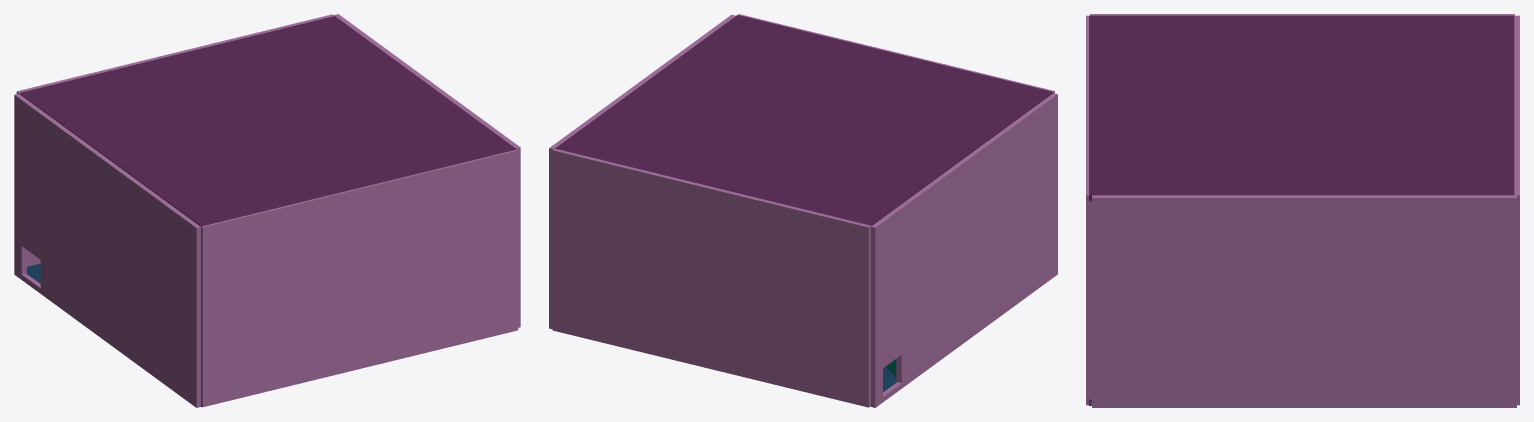
The model's file is Blockout-color.fbx.
The picture shows the model from 3 angles, left to right: view 1: azimuth 30°, elevation 25°; view 2: azimuth 150°, elevation 25°; view 3: azimuth 270°, elevation 25°; orthographic projection. The views are drawn at different scales.
Visible parts, largest first — view 1: Pared, Techo, Pared3, Pared2, Pared1; view 2: Pared1, Techo, Pared3, Pared2, Pared; view 3: Pared2, Techo, Pared, Pared1, Pared3.
Part boxes in pixels (box(x1,y1,x2,y2)): Pared: box(200, 149, 518, 407); Techo: box(19, 16, 516, 231); Pared3: box(14, 93, 200, 407); Pared2: box(333, 14, 520, 327); Pared1: box(16, 14, 333, 266); Pared1: box(552, 148, 871, 407); Techo: box(555, 15, 1053, 225); Pared3: box(870, 93, 1057, 407); Pared2: box(549, 14, 735, 329); Pared: box(738, 14, 1054, 93); Pared2: box(1092, 195, 1516, 407); Techo: box(1089, 15, 1514, 201); Pared: box(1086, 15, 1091, 405); Pared1: box(1514, 15, 1519, 405); Pared3: box(1090, 14, 1514, 15).
Bounding box in the file's own units: 29.86 × 15.87 × 29.6.
